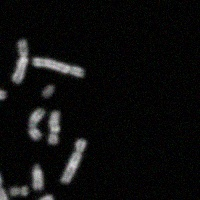chromosome: (32, 56, 86, 77), (61, 140, 86, 184), (11, 38, 28, 83), (0, 165, 17, 200), (28, 107, 45, 140), (46, 111, 61, 145), (30, 164, 45, 190), (0, 67, 7, 101), (9, 184, 27, 197), (33, 194, 54, 200)
